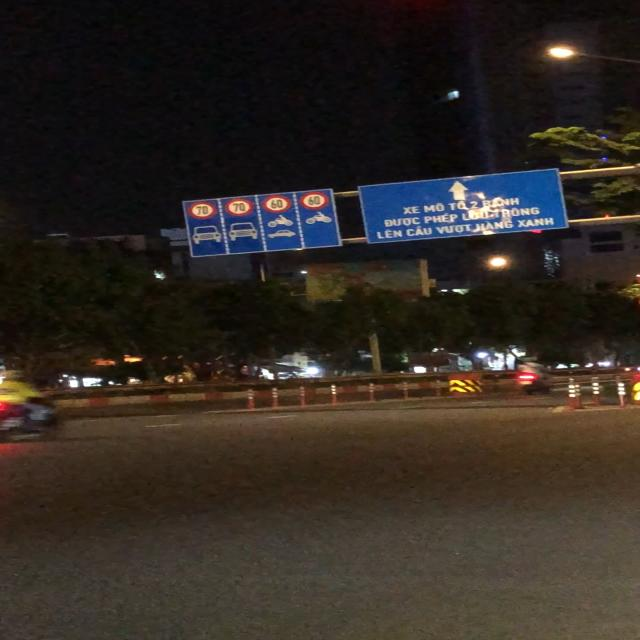Bien bao toc do toi da cho phep: (259, 194, 293, 214), (298, 191, 332, 210), (187, 200, 219, 220), (226, 198, 253, 217)
